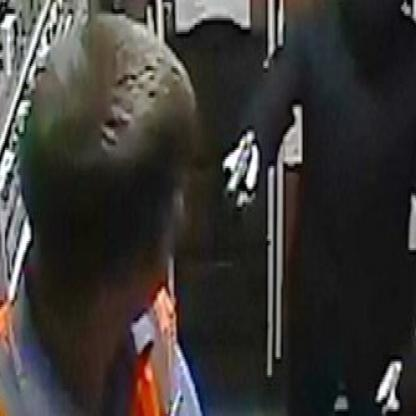gun: (224, 139, 258, 221)
